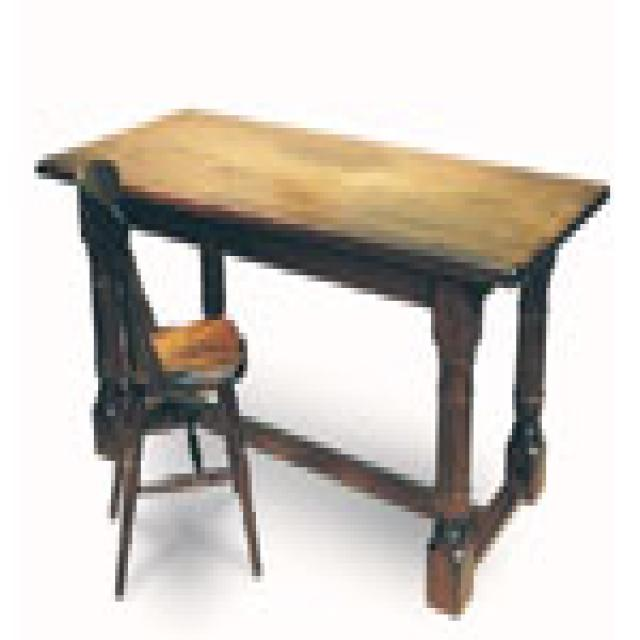table: (34, 107, 610, 619)
